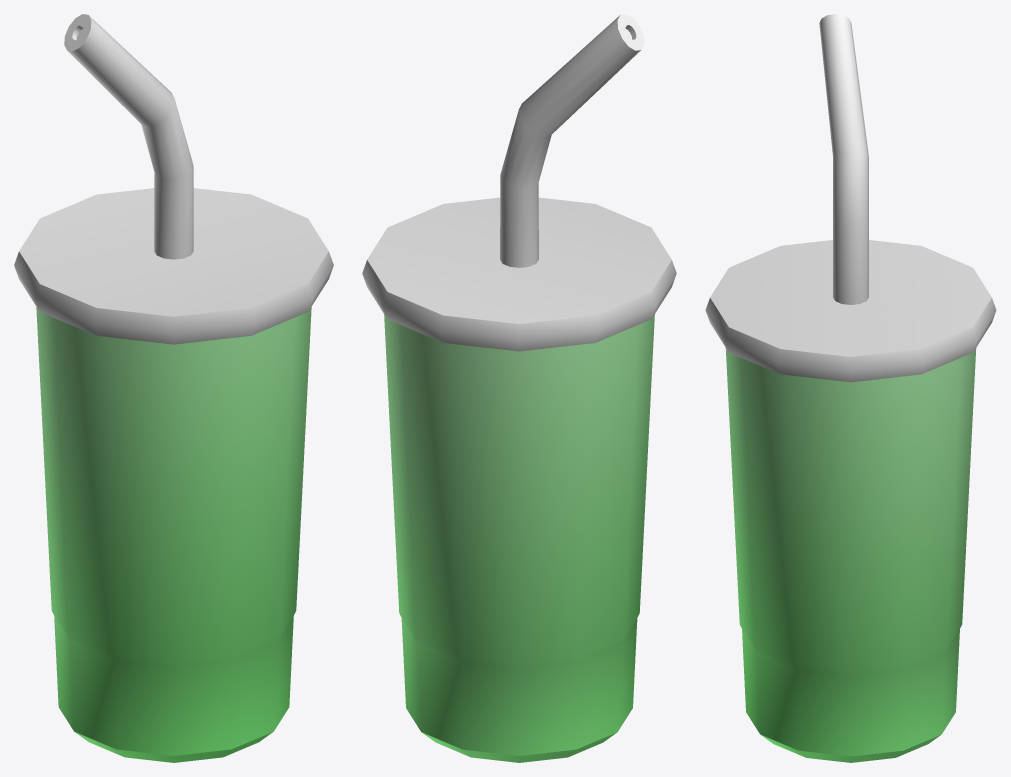
File: Juice Cup_1.glb
The picture shows the model from 3 angles, left to right: view 1: azimuth 30°, elevation 25°; view 2: azimuth 150°, elevation 25°; view 3: azimuth 270°, elevation 25°; orthographic projection. The views are drawn at different scales.
Parts seen in each view (by area): view 1: Juice Cup_1; view 2: Juice Cup_1; view 3: Juice Cup_1.
Boxes of the visible parts, x1=… form: Juice Cup_1: x1=14, y1=14, x2=333, y2=762; Juice Cup_1: x1=362, y1=14, x2=676, y2=762; Juice Cup_1: x1=705, y1=14, x2=996, y2=762.
Size of the model in its own units: 0.0613 by 0.1555 by 0.0613.
Materials: 1 (1 with a texture image).
